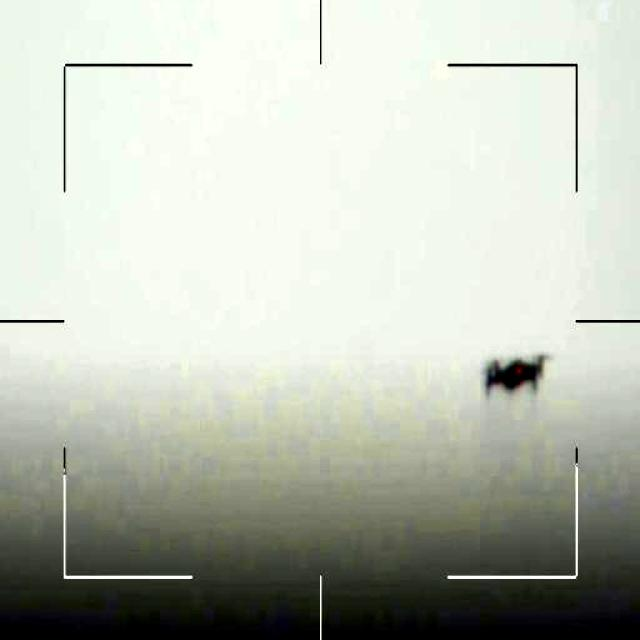bird: (479, 344, 550, 399)
